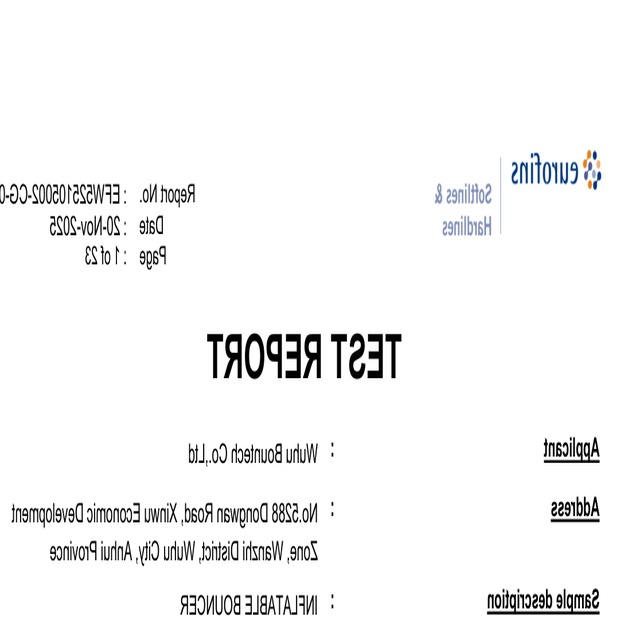eurofins: (506, 143, 609, 201)
